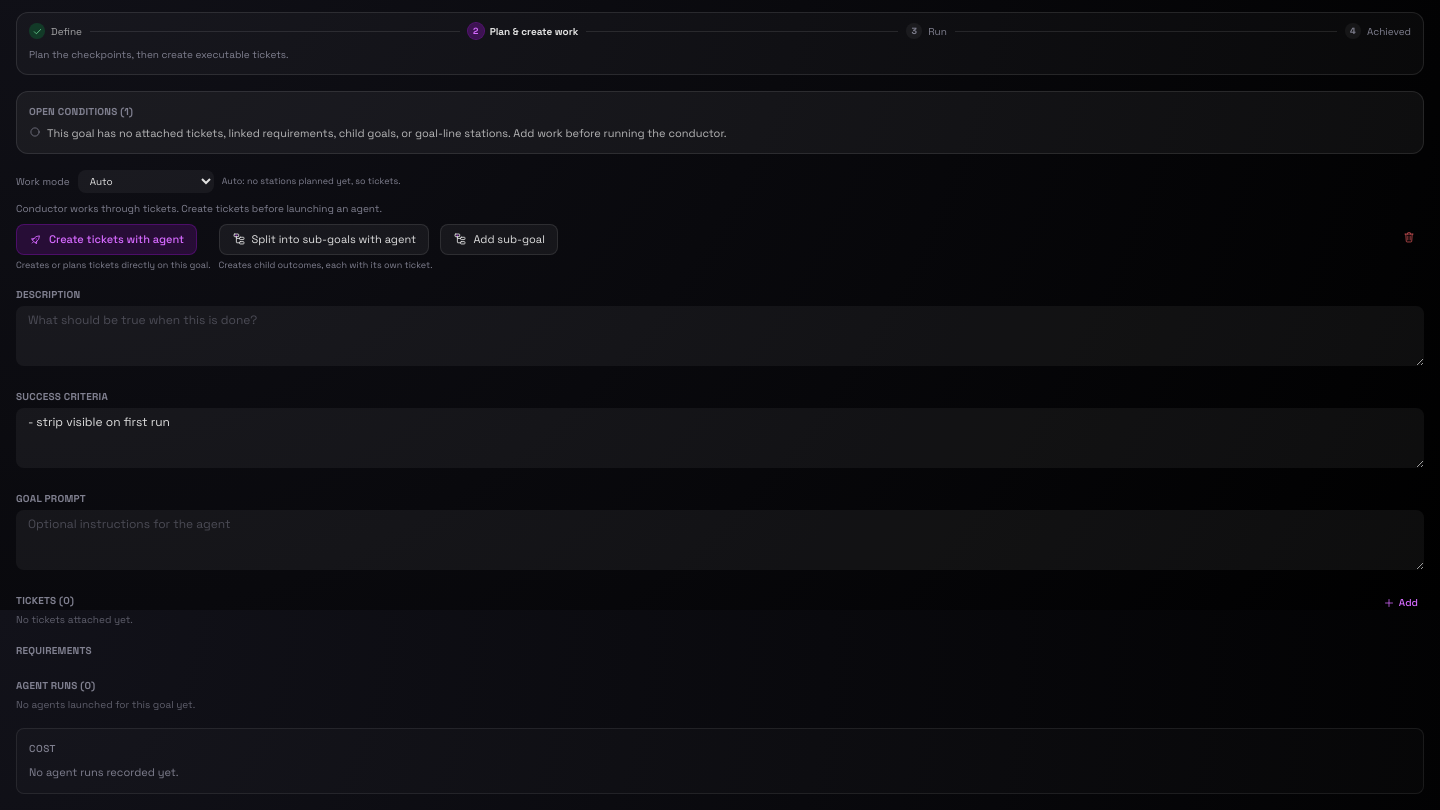
Test case: GoalDetailPanel ticket browser › shows a hint when a matching ticket already belongs to another goal
(page scrolled)
Click the button with test id "goal-ticket-add-btn": (1400, 602) x1=1377 y1=593 x2=1424 y2=612
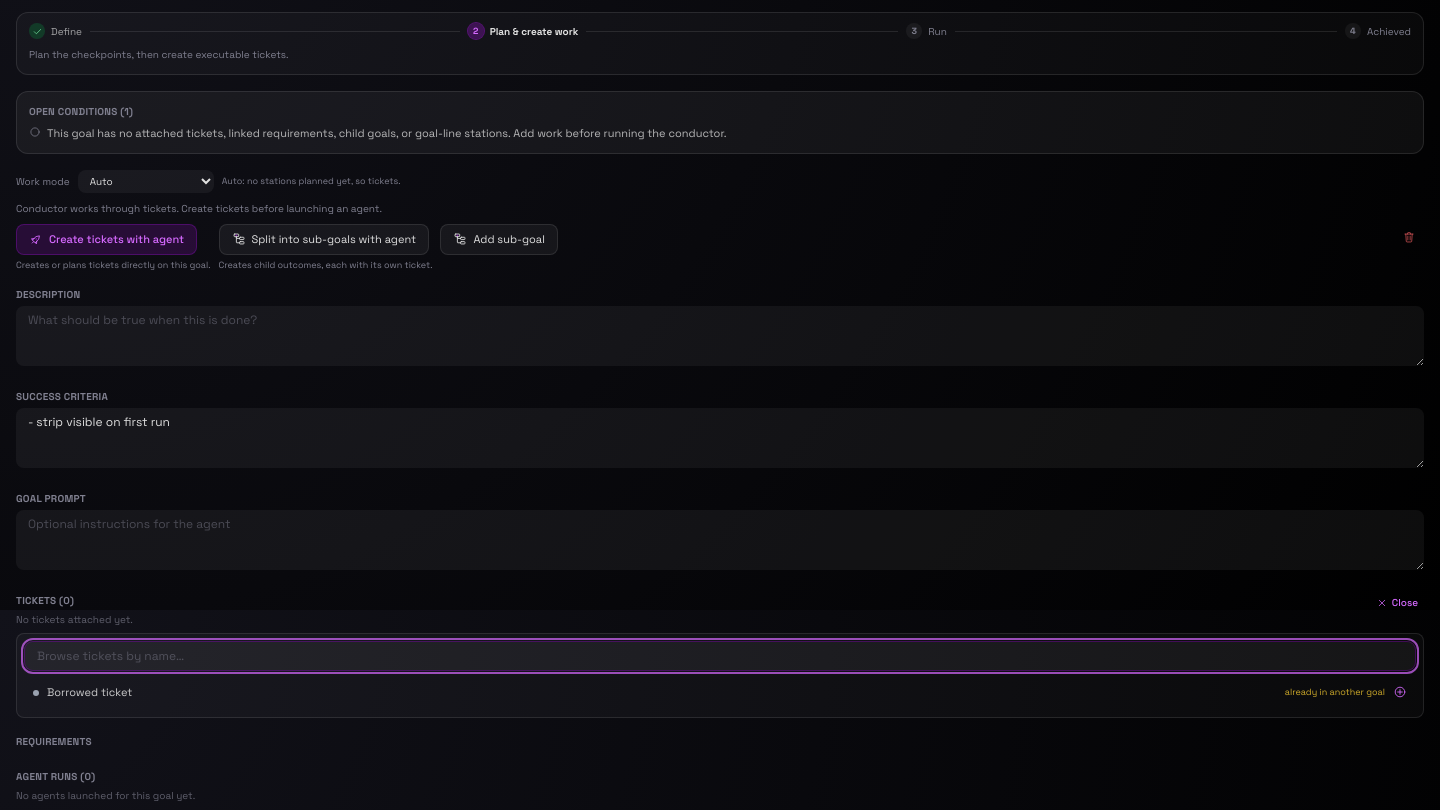
Check: the list item with test id "goal-ticket-option-t1" shows "another goal", box x1=1285 y1=686 x2=1385 y2=698
